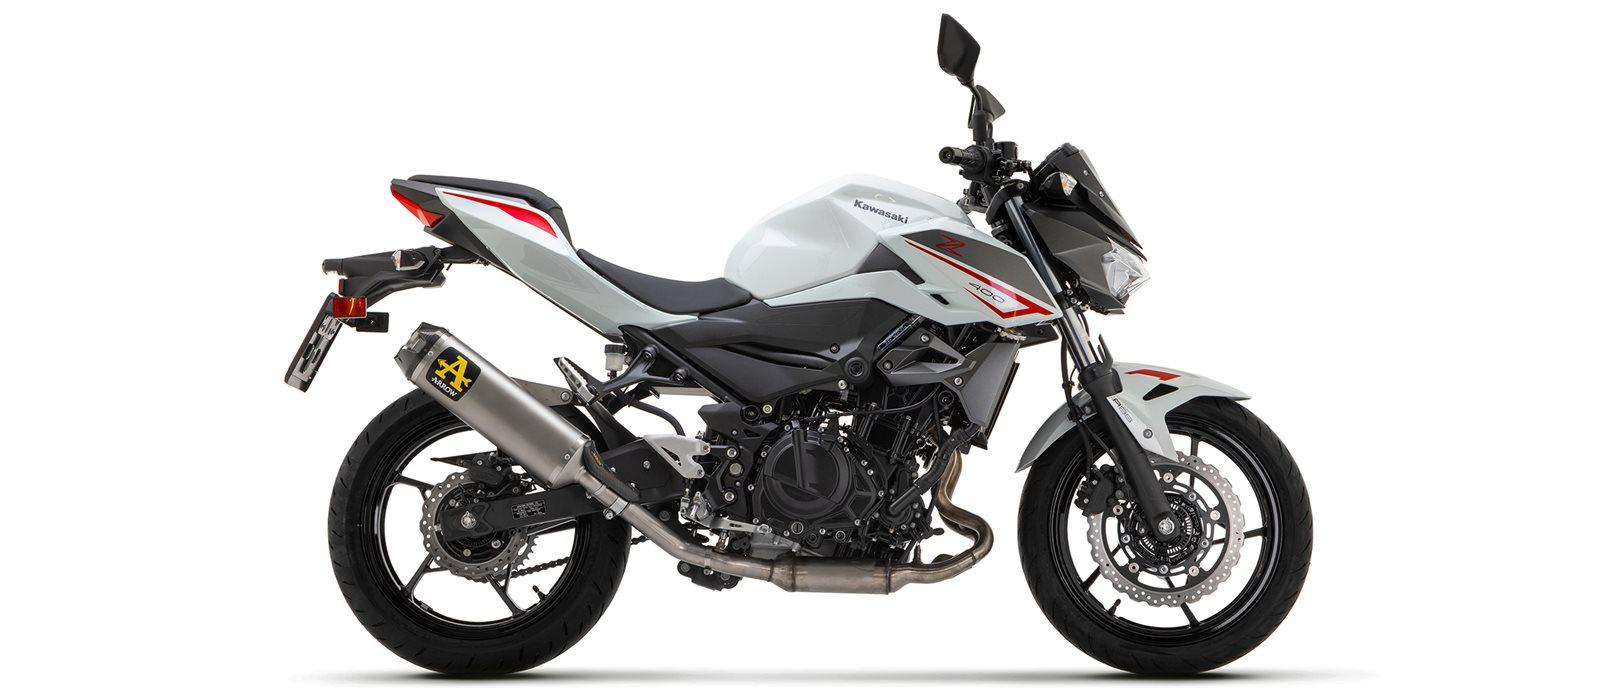engine-chasis: (642, 361, 981, 566)
exhaust: (393, 321, 995, 596)
frontside: (764, 149, 1253, 543)
handlebar: (937, 12, 1080, 215)
motorbike: (285, 13, 1314, 675)
rearside: (284, 178, 909, 512), (439, 484, 603, 542), (694, 424, 738, 445)
seat: (407, 174, 753, 315)
tank: (723, 173, 976, 302)
wheel: (327, 388, 632, 677), (1017, 396, 1314, 677), (1060, 336, 1122, 479), (511, 556, 570, 579), (1080, 313, 1090, 340), (631, 534, 648, 546)
